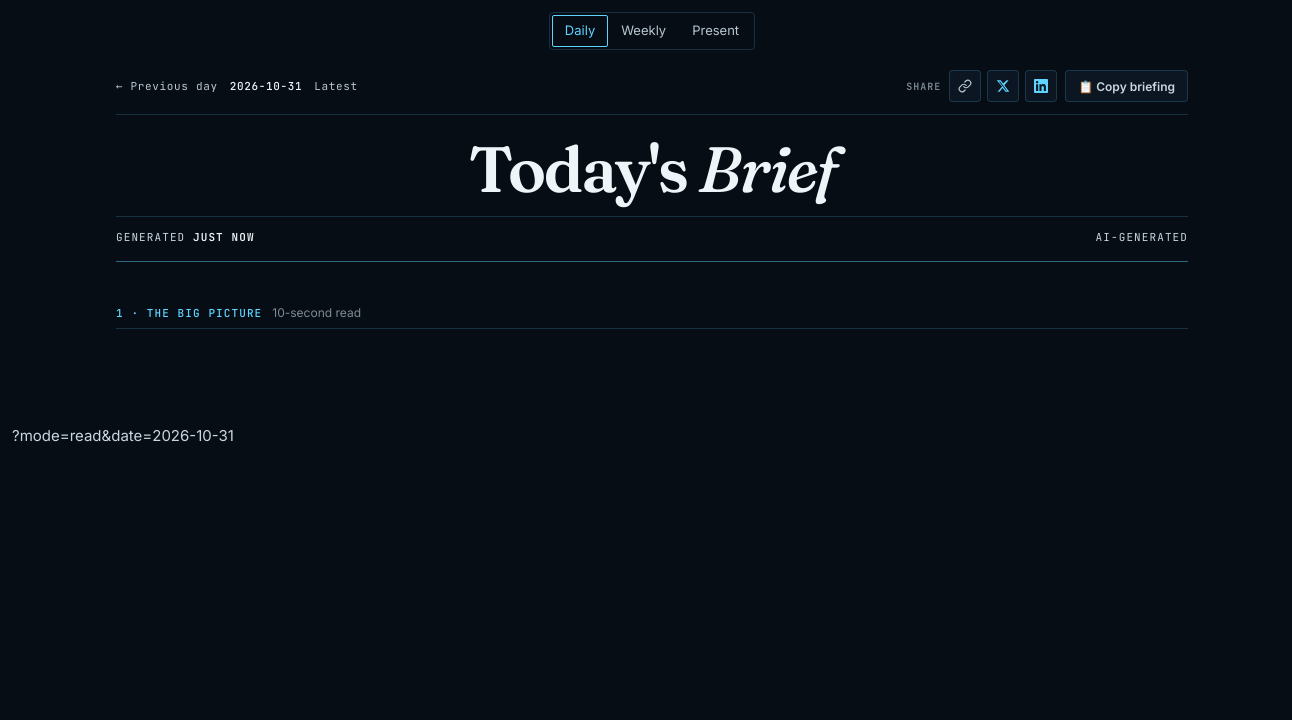
Test: mode switch › switching to Weekly writes ?mode=weekly and keeps no daily date
The image size is (1292, 720).
Click the radio button labelled "Weekly" at (644, 31), box [608, 15, 679, 47]
(page scrolled)
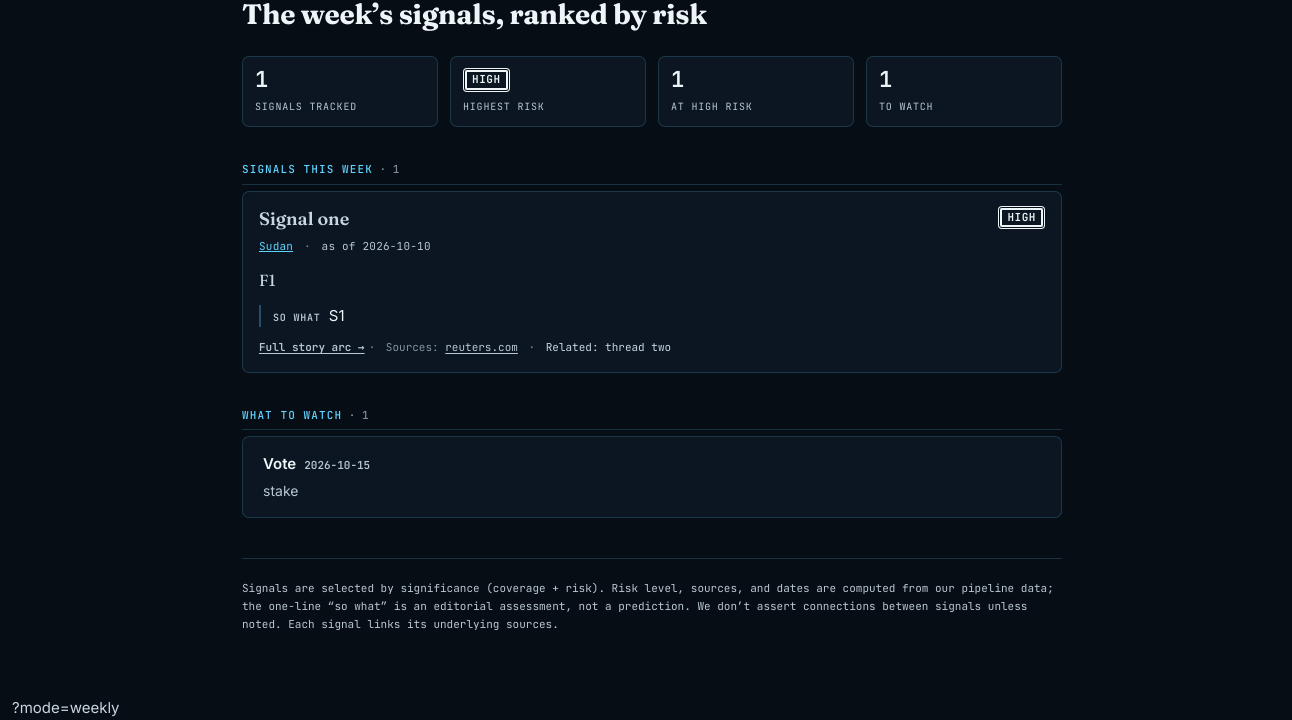
Check: the text with test id "where" reads "?mode=weekly", box [12, 698, 120, 717]
